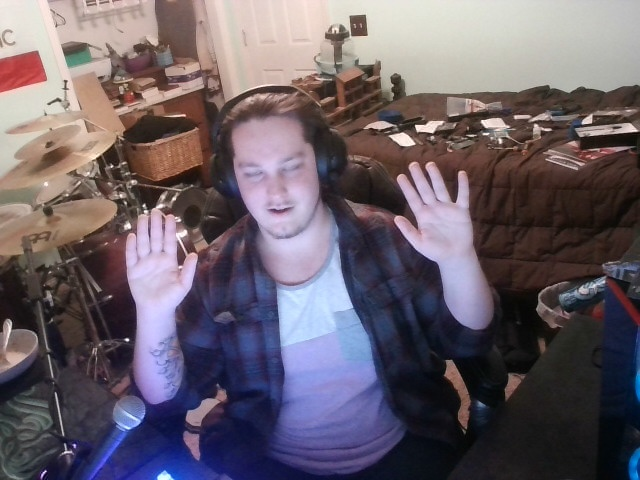great: (87, 155, 480, 313)
